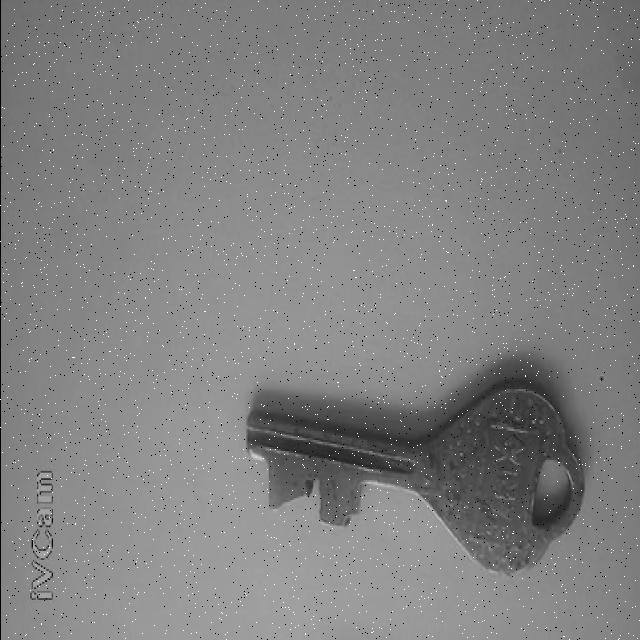key: (247, 387, 583, 575)
